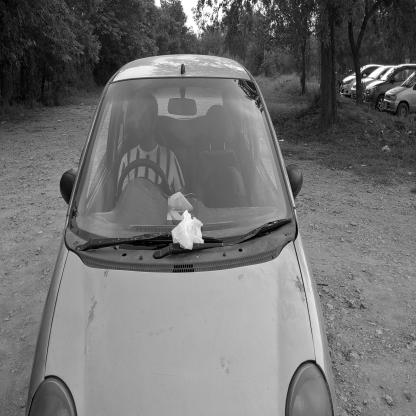no-seatbelt: (126, 91, 164, 180)
